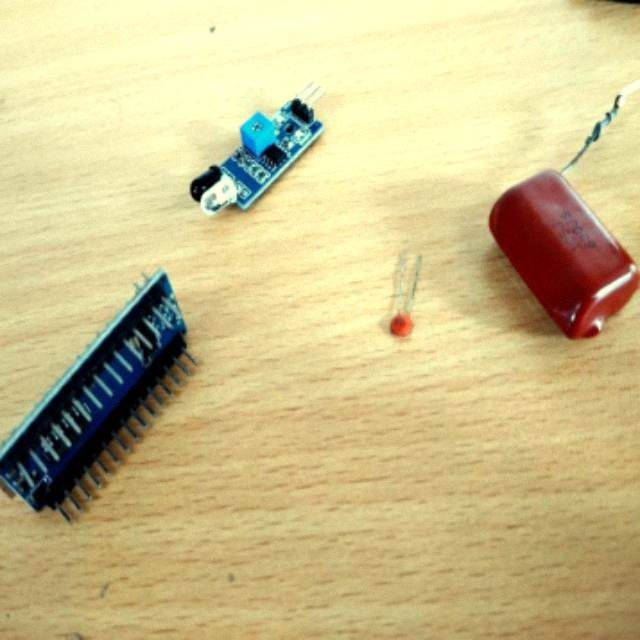capacitor: (488, 173, 637, 339), (390, 312, 414, 338)
